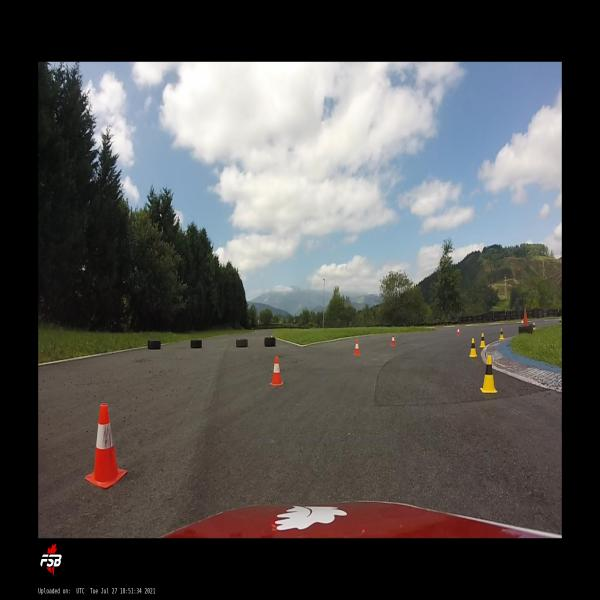orange_cone: (84, 403, 128, 489), (270, 356, 284, 386), (354, 340, 361, 355), (391, 334, 397, 346), (456, 327, 460, 336), (532, 322, 536, 330)
yellow_cone: (480, 355, 498, 393), (469, 337, 478, 357), (479, 332, 487, 347), (498, 328, 506, 340), (532, 322, 536, 330)
